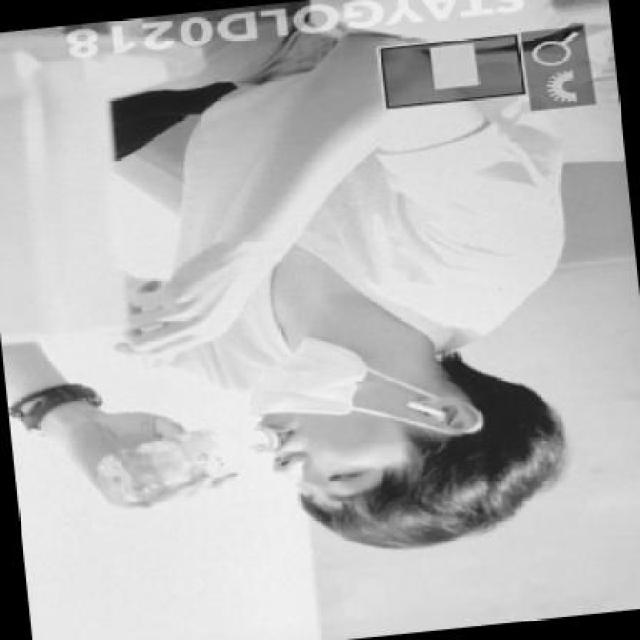earphone: (398, 396, 462, 428)
